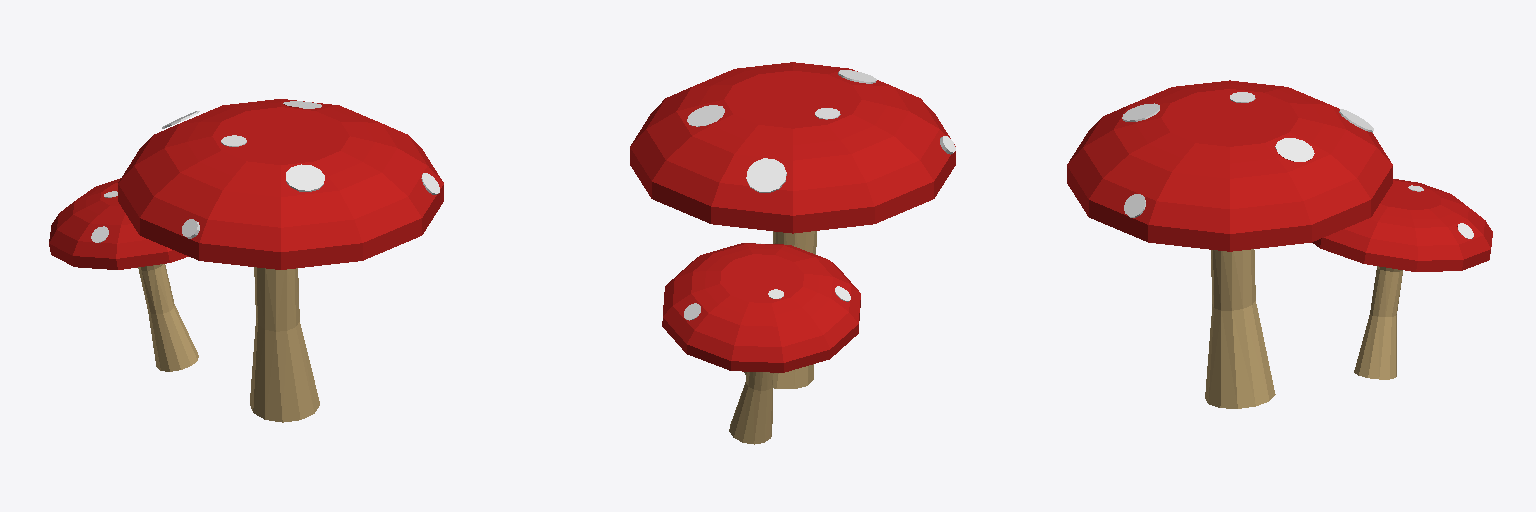
The picture shows the model from 3 angles: view 1: azimuth 30°, elevation 25°; view 2: azimuth 150°, elevation 25°; view 3: azimuth 270°, elevation 25°; orthographic projection.
Parts seen in each view (by area): view 1: Mesh; view 2: Mesh; view 3: Mesh.
Part boxes in pixels (x1,y1,x2,y2): Mesh: (49,99,443,422); Mesh: (630,62,955,444); Mesh: (1067,80,1492,408).
Bounding box in the file's own units: 0.49 × 0.4621 × 0.6401.
1 materials, 1 textured.